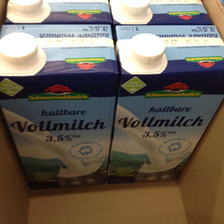milk: (1, 24, 116, 196), (107, 26, 224, 187)
